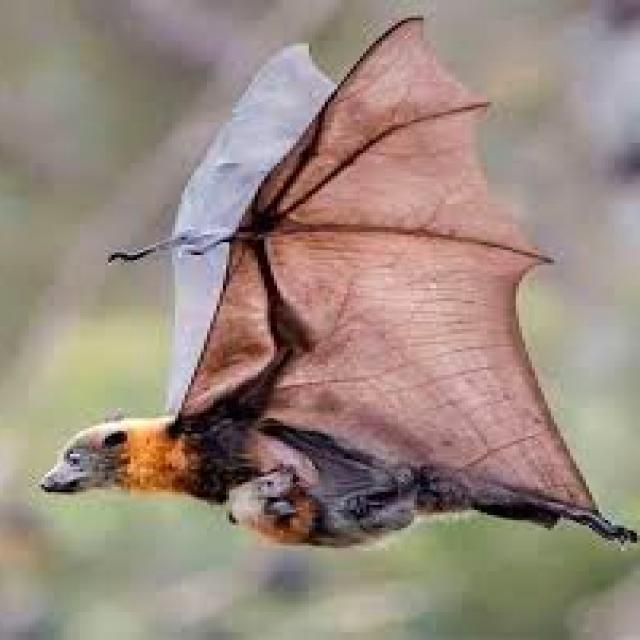bat: (45, 15, 637, 543)
